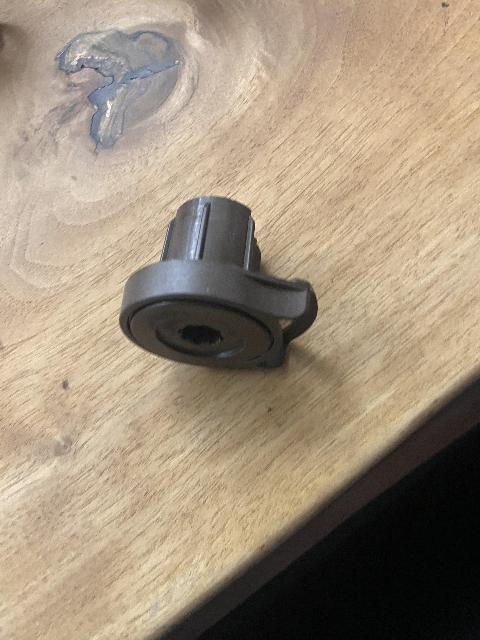Plastik: (116, 198, 316, 375)
